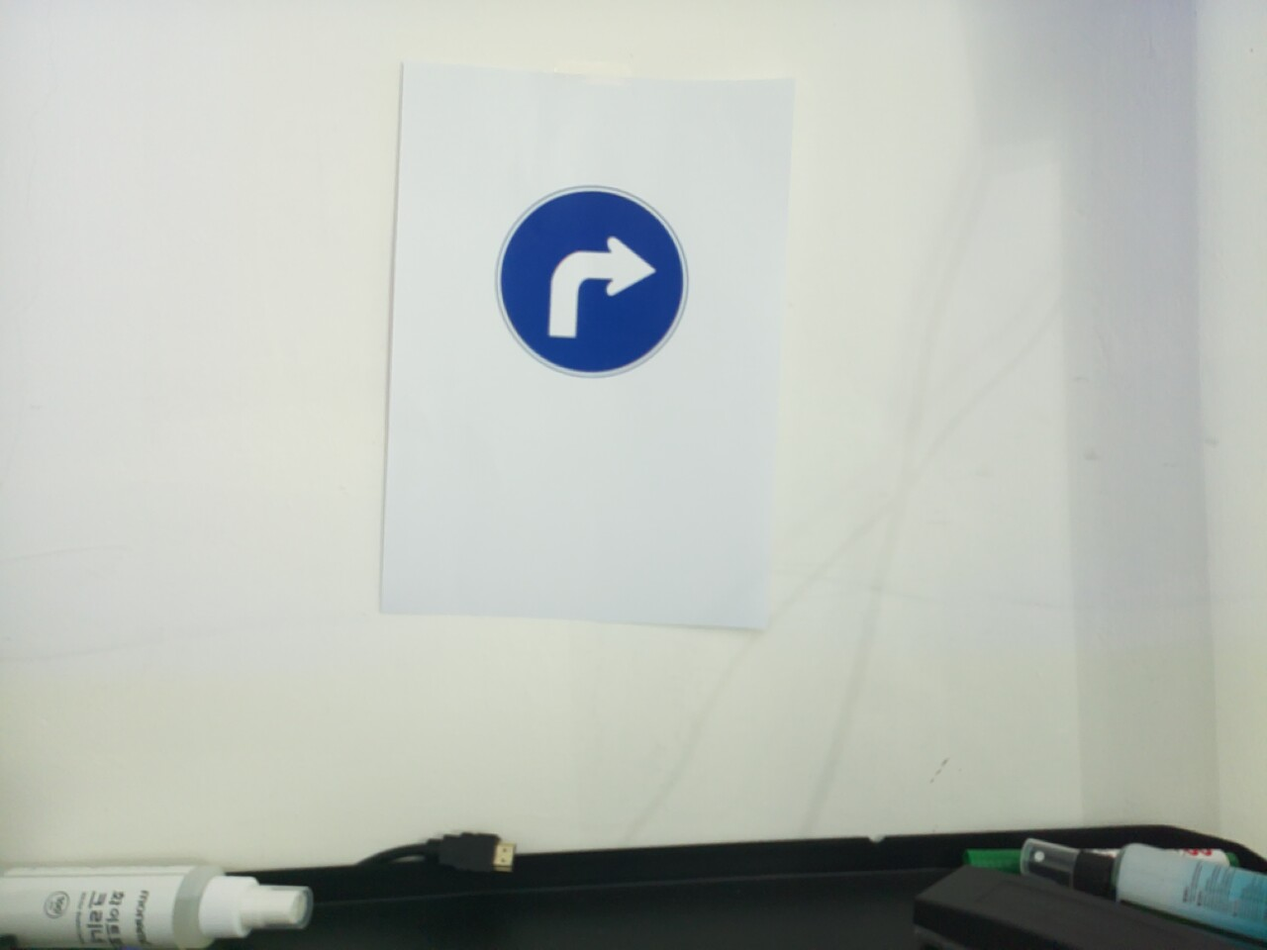right_turn: (493, 184, 690, 380)
